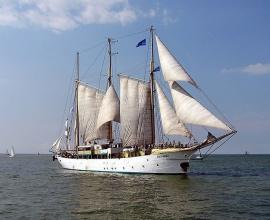fanchuan: (55, 25, 237, 173)
